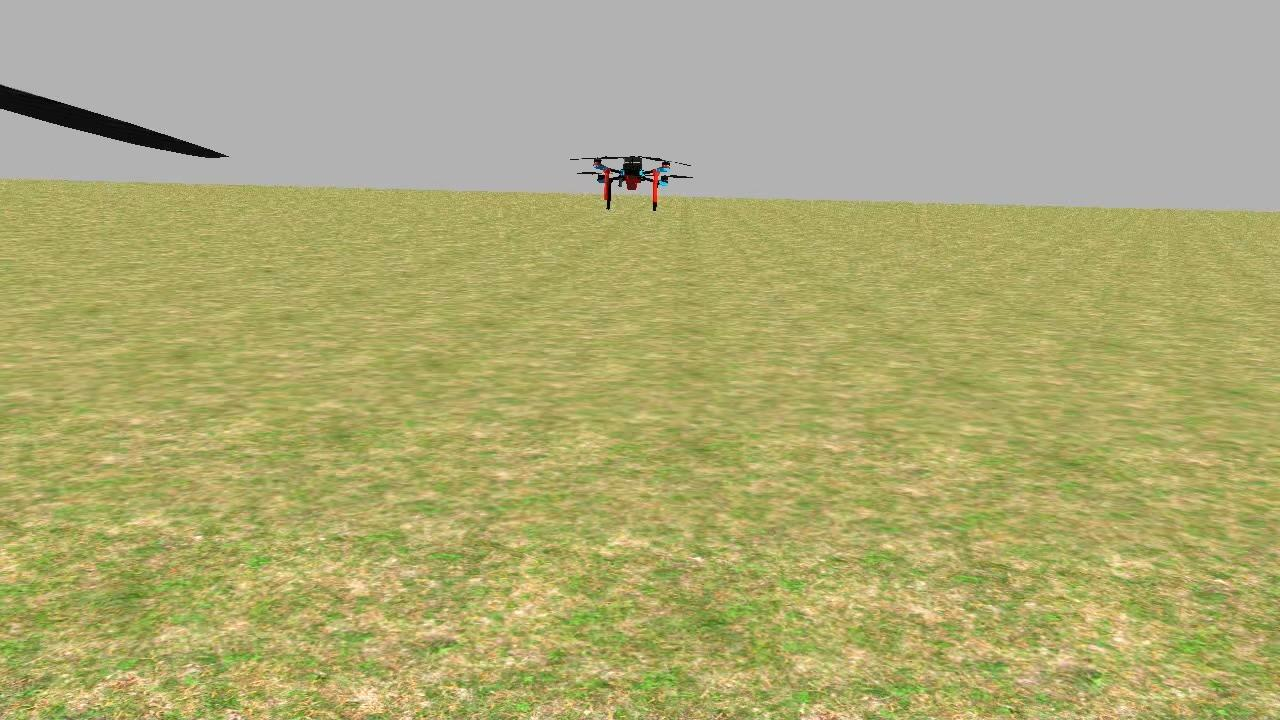UAV: (582, 144, 680, 216)
